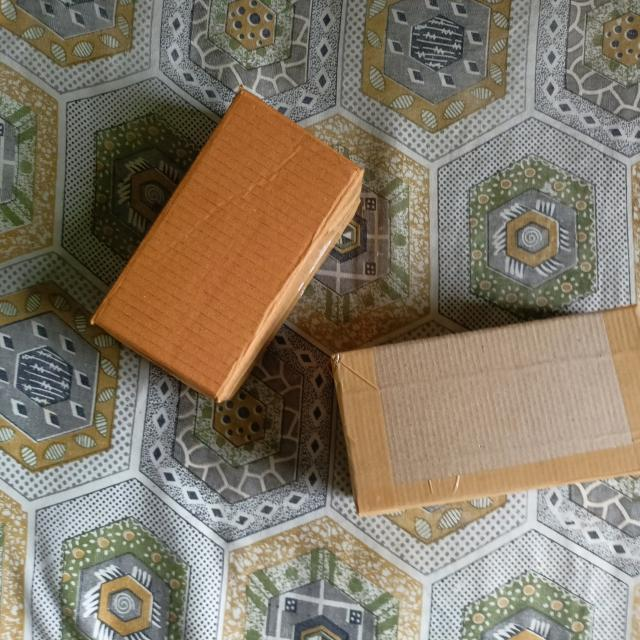box: (98, 92, 361, 403), (335, 306, 640, 515)
